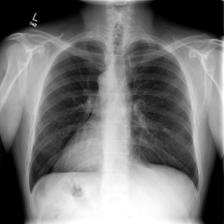normal: (22, 32, 205, 202)
